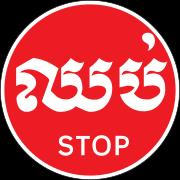Stop: (8, 22, 170, 166)
